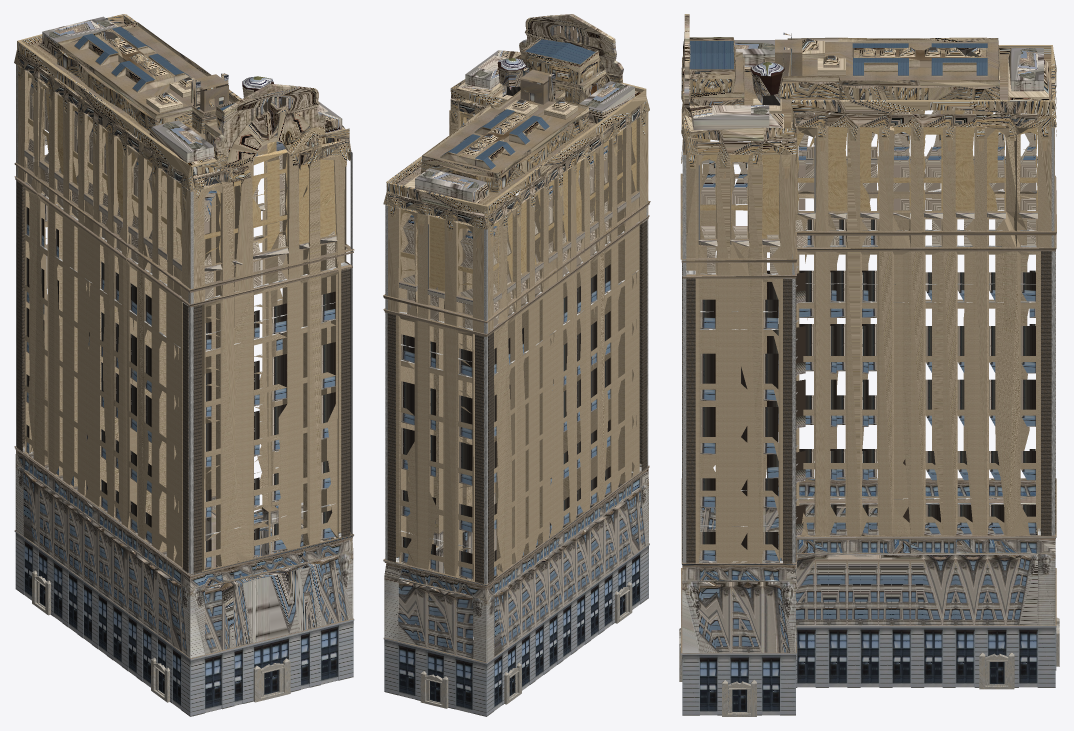
File: annex.glb
3 views of the same model, side by side, from view 1: azimuth 30°, elevation 25°; view 2: azimuth 150°, elevation 25°; view 3: azimuth 270°, elevation 25° (orthographic). The views are drawn at different scales.
Parts seen in each view (by area): view 1: Object_11, Object_6, Object_17, Object_5, Object_13, Object_4, Object_35, Object_19, Object_12, Object_27, Object_23; view 2: Object_11, Object_17, Object_6, Object_5, Object_13, Object_4, Object_35, Object_19, Object_12, Object_23, Object_27; view 3: Object_11, Object_6, Object_17, Object_13, Object_5, Object_4, Object_35, Object_19, Object_12, Object_23, Object_27.
Boxes of the visible parts, x1=… form: Object_11: x1=16, y1=64, x2=346, y2=572; Object_6: x1=14, y1=139, x2=353, y2=658; Object_17: x1=14, y1=14, x2=351, y2=211; Object_5: x1=14, y1=530, x2=354, y2=716; Object_13: x1=26, y1=80, x2=335, y2=568; Object_4: x1=14, y1=23, x2=354, y2=658; Object_35: x1=17, y1=181, x2=350, y2=573; Object_19: x1=28, y1=73, x2=335, y2=265; Object_12: x1=16, y1=65, x2=352, y2=575; Object_27: x1=32, y1=570, x2=290, y2=702; Object_23: x1=74, y1=26, x2=281, y2=110; Object_11: x1=386, y1=99, x2=648, y2=580; Object_17: x1=383, y1=14, x2=649, y2=248; Object_6: x1=383, y1=192, x2=648, y2=662; Object_5: x1=383, y1=543, x2=649, y2=716; Object_13: x1=401, y1=102, x2=610, y2=579; Object_4: x1=383, y1=26, x2=650, y2=662; Object_35: x1=387, y1=220, x2=647, y2=583; Object_19: x1=400, y1=101, x2=636, y2=296; Object_12: x1=385, y1=201, x2=648, y2=584; Object_23: x1=442, y1=39, x2=595, y2=169; Object_27: x1=420, y1=582, x2=632, y2=708; Object_11: x1=682, y1=88, x2=1054, y2=562; Object_6: x1=682, y1=158, x2=1056, y2=652; Object_17: x1=681, y1=14, x2=1056, y2=178; Object_13: x1=700, y1=110, x2=1036, y2=561; Object_5: x1=681, y1=625, x2=1056, y2=715; Object_4: x1=680, y1=39, x2=1056, y2=653; Object_35: x1=682, y1=251, x2=1055, y2=563; Object_19: x1=700, y1=110, x2=1037, y2=238; Object_12: x1=682, y1=127, x2=1054, y2=564; Object_23: x1=689, y1=41, x2=987, y2=75; Object_27: x1=679, y1=617, x2=1059, y2=716.
Size of the model in its own units: 38.11 by 132 by 69.8.
Materials: 11 (11 with a texture image).
